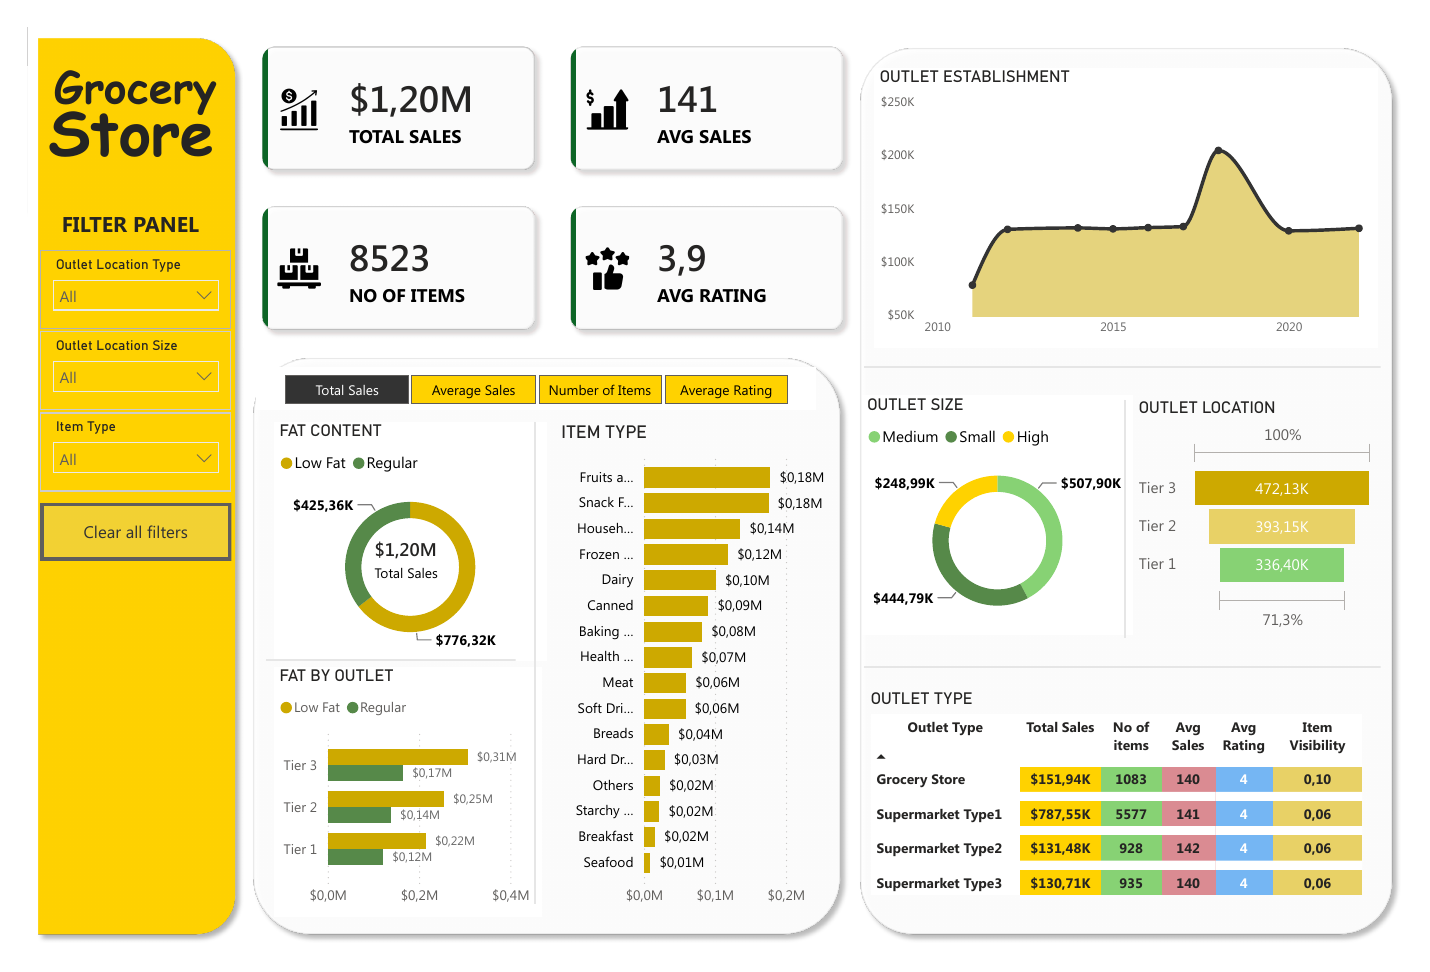

The page's visual inventory and layout, read from the dashboard file:
{"tool":"powerbi","page":{"name":"Page 1","canvas":[1200,800],"ordinal":0},"visuals":[{"type":"shape","box":[0,0,190,800],"z":0},{"type":"cardVisual","fields":{"Data":["Grocery Data.Total Sales","Grocery Data.Average Sales","Grocery Data.Number of Items","Grocery Data.Average Rating"]},"box":[187.5,0,540,280],"z":1000},{"type":"shape","box":[187.5,280,530,520],"z":2000},{"type":"donutChart","title":"FAT CONTENT","fields":{"Y":["Grocery Data.Total Sales"],"Category":["Grocery Data.Item Fat Content"]},"box":[215,343.8,237.5,208.8],"z":3000},{"type":"slicer","fields":{"Values":["Metrics.Metrics"]},"box":[198.8,296.2,488.8,37.5],"z":4000},{"type":"cardVisual","fields":{"Data":["Grocery Data.Total Sales"]},"box":[273.8,425,120,78.8],"z":5000},{"type":"clusteredBarChart","title":"FAT BY OUTLET","fields":{"Y":["Grocery Data.Total Sales"],"Category":["Grocery Data.Outlet Location Type"],"Series":["Grocery Data.Item Fat Content"]},"box":[215,557.5,233.8,218.8],"z":6000},{"type":"shape","box":[207.5,540,218.8,23.8],"z":7000},{"type":"shape","box":[426.2,343.8,33.8,421.2],"z":8000},{"type":"barChart","title":"ITEM TYPE","fields":{"Y":["Grocery Data.Total Sales"],"Category":["Grocery Data.Item Type"]},"box":[461.2,343.8,256.2,432.5],"z":9000},{"type":"shape","box":[717.5,8.8,482.5,791.2],"z":10000},{"type":"lineChart","title":"OUTLET ESTABLISHMENT","fields":{"Category":["Grocery Data.Outlet Establishment Year"],"Y":["Grocery Data.Total Sales"]},"box":[738.8,35,440,245],"z":11000},{"type":"shape","box":[730,283.8,451.2,23.8],"z":12000},{"type":"donutChart","title":"OUTLET SIZE","fields":{"Y":["Grocery Data.Total Sales"],"Category":["Grocery Data.Outlet Size"]},"box":[727.5,321.2,237.5,208.8],"z":13000},{"type":"shape","box":[941.2,325,33.8,207.5],"z":14000},{"type":"funnel","title":"OUTLET LOCATION","fields":{"Category":["Grocery Data.Outlet Location Type"],"Y":["Sum(Grocery Data.Sales)"]},"box":[965,323.8,216.2,207.5],"z":15000},{"type":"shape","box":[730,546.2,451.2,23.8],"z":16000},{"type":"pivotTable","title":"OUTLET TYPE","fields":{"Rows":["Grocery Data.Outlet Type"],"Values":["Grocery Data.Total Sales","Grocery Data.Number of Items","Grocery Data.Average Sales","Grocery Data.Average Rating","Avg(Grocery Data.Item Visibility)"]},"box":[731.2,577.5,453.8,221.2],"z":17000},{"type":"slicer","fields":{"Values":["Grocery Data.Outlet Location Type"]},"box":[11.2,193.8,166.2,68.8],"z":18000},{"type":"slicer","fields":{"Values":["Grocery Data.Outlet Size"]},"box":[11.2,265,166.2,68.8],"z":19000},{"type":"slicer","fields":{"Values":["Grocery Data.Item Type"]},"box":[11.2,336.2,166.2,68.8],"z":20000},{"type":"textbox","box":[25,153.8,135,40],"z":21000},{"type":"actionButton","box":[11.2,415,166.2,50],"z":22000},{"type":"textbox","box":[18.8,20,152.5,73.8],"z":23000},{"type":"textbox","box":[13,48,171,92],"z":24000}]}

Visuals, with their boxes in screenshot pixels (x1, y1, x2, y2), scaled from the page's 1200x800 canvas onto the 1430x972 screenshot:
shape: (x1=0, y1=0, x2=226, y2=971)
cardVisual - Grocery Data.Total Sales x Grocery Data.Average Sales: (x1=223, y1=0, x2=867, y2=340)
shape: (x1=223, y1=340, x2=855, y2=971)
"FAT CONTENT" donutChart: (x1=256, y1=418, x2=539, y2=671)
slicer - Metrics.Metrics: (x1=237, y1=360, x2=819, y2=405)
cardVisual - Grocery Data.Total Sales: (x1=326, y1=516, x2=469, y2=612)
"FAT BY OUTLET" clusteredBarChart: (x1=256, y1=677, x2=535, y2=943)
shape: (x1=247, y1=656, x2=508, y2=685)
shape: (x1=508, y1=418, x2=548, y2=929)
"ITEM TYPE" barChart: (x1=550, y1=418, x2=855, y2=943)
shape: (x1=855, y1=11, x2=1429, y2=971)
"OUTLET ESTABLISHMENT" lineChart: (x1=880, y1=43, x2=1405, y2=340)
shape: (x1=870, y1=345, x2=1408, y2=374)
"OUTLET SIZE" donutChart: (x1=867, y1=390, x2=1150, y2=644)
shape: (x1=1122, y1=395, x2=1162, y2=647)
"OUTLET LOCATION" funnel: (x1=1150, y1=393, x2=1408, y2=646)
shape: (x1=870, y1=664, x2=1408, y2=693)
"OUTLET TYPE" pivotTable: (x1=871, y1=702, x2=1412, y2=970)
slicer - Grocery Data.Outlet Location Type: (x1=13, y1=235, x2=211, y2=319)
slicer - Grocery Data.Outlet Size: (x1=13, y1=322, x2=211, y2=406)
slicer - Grocery Data.Item Type: (x1=13, y1=408, x2=211, y2=492)
textbox: (x1=30, y1=187, x2=191, y2=235)
actionButton: (x1=13, y1=504, x2=211, y2=565)
textbox: (x1=22, y1=24, x2=204, y2=114)
textbox: (x1=15, y1=58, x2=219, y2=170)
